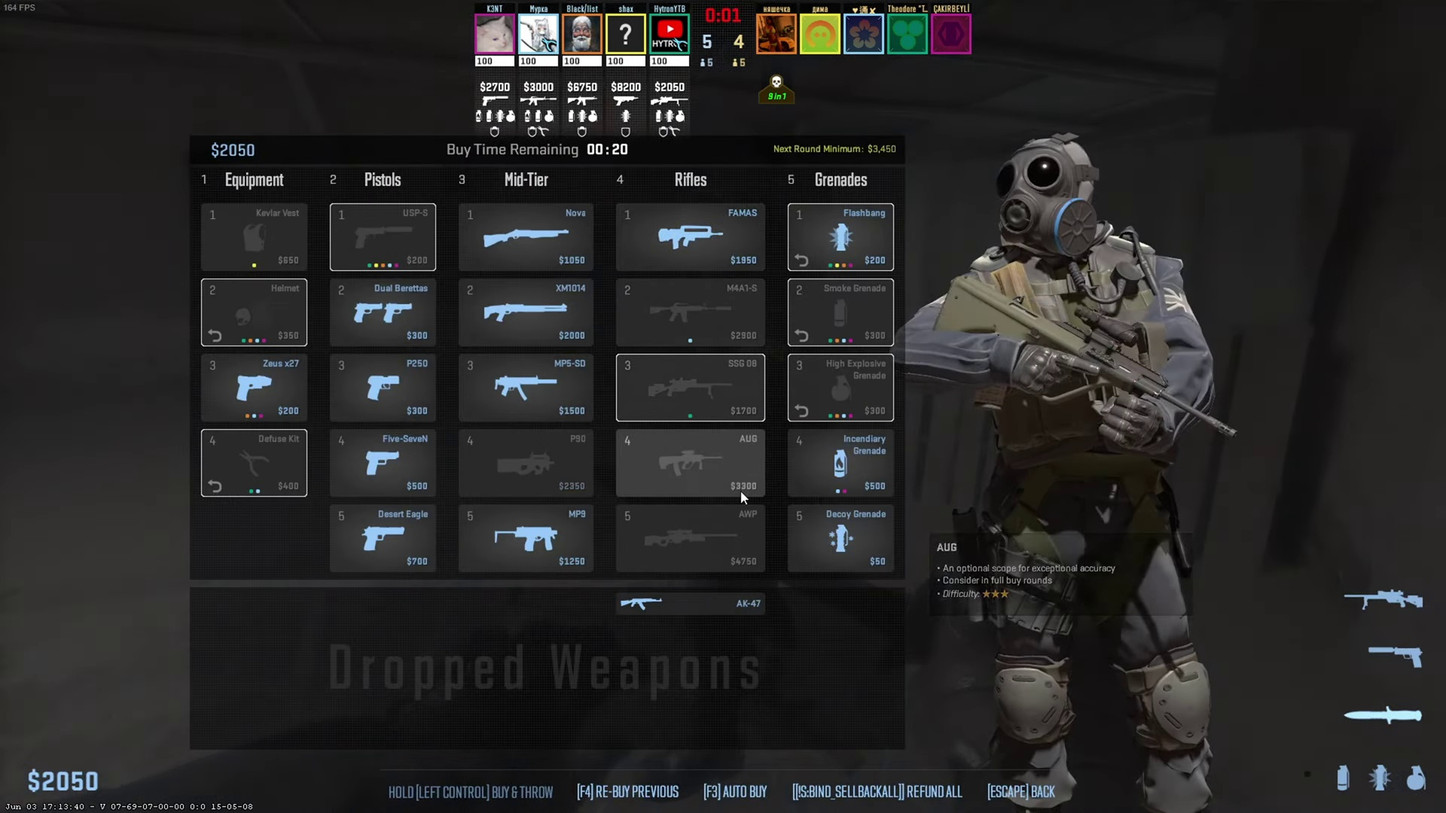CT: (965, 137, 1212, 810)
